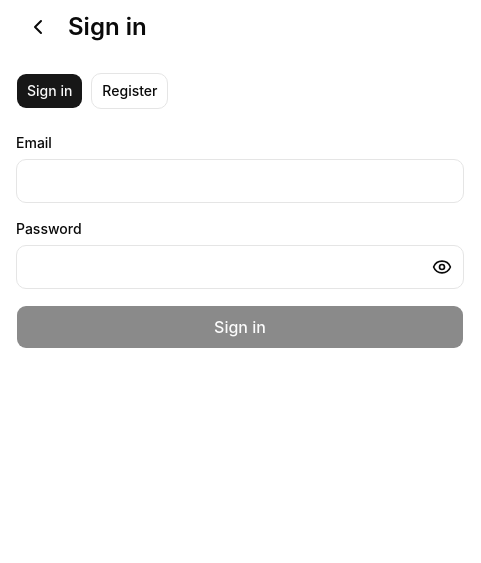
register (S-02) › switches between sign-in and registration
Click the button "Register" at (130, 91), box [91,73,168,109]
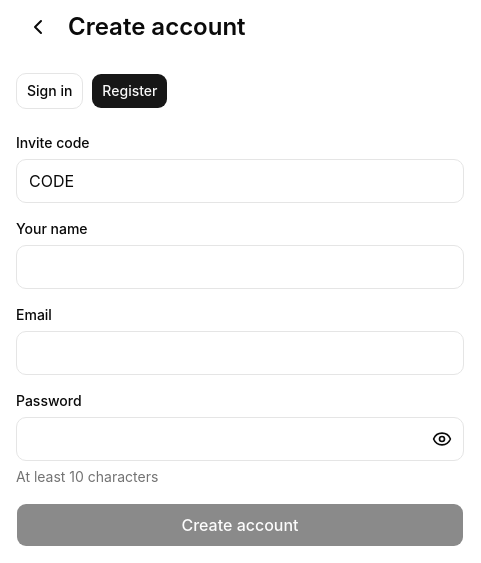
Expected: the field labelled "Invite code" holds "CODE", [16,159,464,203]
